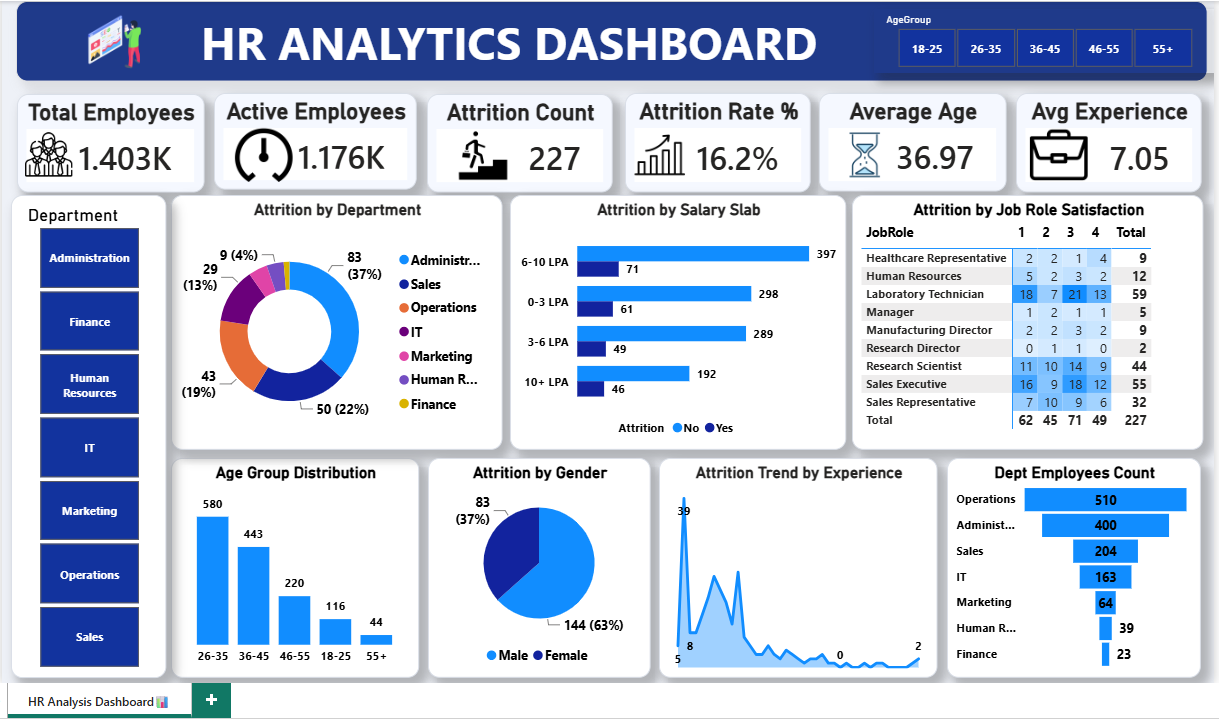

The dashboard page shown, as its layout file describes it:
{"tool":"powerbi","page":{"name":"HR Analysis Dashboard📊","canvas":[1280,720],"ordinal":0},"visuals":[{"type":"textbox","box":[14.3,0,1258.3,84.5],"z":0},{"type":"cardVisual","title":"Total Employees","fields":{"Data":["Count(HR_Analytics.EmpID)"]},"box":[15.5,98,197.6,103.6],"z":0,"group":"g1"},{"type":"donutChart","title":"Attrition by Department","fields":{"Category":["HR_Analytics.Department"],"Y":["Sum(HR_Analytics.Attrition Count)"]},"box":[178.6,204.6,350,269],"z":0,"group":"g2"},{"type":"group","id":"g1","title":"Group 1","box":[15.5,97,1251.2,105.2],"z":1000},{"type":"clusteredBarChart","title":"Attrition by Salary Slab","fields":{"Category":["HR_Analytics.SalarySlab"],"Y":["Sum(HR_Analytics.EmployeeCount)"],"Series":["HR_Analytics.Attrition"]},"box":[536.9,204.6,354.8,269],"z":1000,"group":"g2"},{"type":"cardVisual","title":"Active Employees","fields":{"Data":["CountNonNull(HR_Analytics.EmployeeCount)"]},"box":[223.8,97.3,214.3,102.4],"z":2000,"group":"g1"},{"type":"pivotTable","title":"Attrition by Job Role Satisfaction  ","fields":{"Rows":["HR_Analytics.JobRole"],"Values":["Sum(HR_Analytics.Attrition Count)"],"Columns":["HR_Analytics.JobSatisfaction"]},"box":[897.7,204.6,371.4,269],"z":2000,"group":"g2"},{"type":"columnChart","title":"Age Group Distribution","fields":{"Category":["HR_Analytics.AgeGroup"],"Y":["Sum(HR_Analytics.EmployeeCount)"]},"box":[178.6,482.1,261.9,232.1],"z":2000},{"type":"cardVisual","title":"Attrition Count","fields":{"Data":["Sum(HR_Analytics.Attrition Count)"]},"box":[448.8,98,196.4,103.6],"z":3000,"group":"g1"},{"type":"group","id":"g2","title":"Group 2","box":[178.6,204.6,1090.5,269],"z":3000},{"type":"cardVisual","title":"Attrition Rate %","fields":{"Data":["HR_Analytics.Attrition Rate"]},"box":[657.2,97.3,196.4,104.8],"z":4000,"group":"g1"},{"type":"pieChart","title":"Attrition by Gender","fields":{"Category":["HR_Analytics.Gender"],"Y":["Sum(HR_Analytics.Attrition Count)"]},"box":[450,482.1,234.5,232.1],"z":4000},{"type":"cardVisual","title":"Average Age","fields":{"Data":["Avg(HR_Analytics.Age)"]},"box":[861.9,97,197.6,103.6],"z":5000,"group":"g1"},{"type":"areaChart","title":"Attrition Trend by Experience","fields":{"Category":["HR_Analytics.TotalExperience(Years)"],"Y":["Sum(HR_Analytics.Attrition Count)"]},"box":[694.1,482.1,294,232.1],"z":5000},{"type":"cardVisual","title":"Avg Experience","fields":{"Data":["Avg(HR_Analytics.YearsatCompany)"]},"box":[1070.3,97.5,196.4,104.8],"z":6000,"group":"g1"},{"type":"funnel","title":"Dept Employees Count","fields":{"Category":["HR_Analytics.Department"],"Y":["Sum(HR_Analytics.EmployeeCount)"]},"box":[997.6,482.1,267.9,232.1],"z":6000},{"type":"slicer","fields":{"Values":["HR_Analytics.Department"]},"box":[9.5,204.8,164.3,509.5],"z":7000},{"type":"slicer","fields":{"Values":["HR_Analytics.AgeGroup"]},"box":[920.2,8.3,359.5,67.9],"z":8000},{"type":"image","box":[1083.3,132.1,65.5,60.7],"z":9000},{"type":"image","box":[23.8,132.1,50,60.7],"z":10000},{"type":"image","box":[479.8,132.1,57.1,60.7],"z":11000},{"type":"image","box":[878.6,132.1,65.5,60.7],"z":12000},{"type":"image","box":[661.9,132.1,65.5,60.7],"z":13000},{"type":"image","box":[244,132.1,65.5,60.7],"z":14000},{"type":"image","box":[64.3,13.1,109.5,60.7],"z":15000}]}

Visuals, with their boxes on the page's 1280x720 design canvas (x1, y1, x2, y2). These are canvas units, not pixel positions in the 1219x719 screenshot, which may show the page scaled, cropped or inside an application window:
textbox: [14,0,1273,84]
"Total Employees" cardVisual: [16,98,213,202]
"Attrition by Department" donutChart: [179,205,529,474]
"Group 1" group: [16,97,1267,202]
"Attrition by Salary Slab" clusteredBarChart: [537,205,892,474]
"Active Employees" cardVisual: [224,97,438,200]
"Attrition by Job Role Satisfaction  " pivotTable: [898,205,1269,474]
"Age Group Distribution" columnChart: [179,482,440,714]
"Attrition Count" cardVisual: [449,98,645,202]
"Group 2" group: [179,205,1269,474]
"Attrition Rate %" cardVisual: [657,97,854,202]
"Attrition by Gender" pieChart: [450,482,684,714]
"Average Age" cardVisual: [862,97,1060,201]
"Attrition Trend by Experience" areaChart: [694,482,988,714]
"Avg Experience" cardVisual: [1070,98,1267,202]
"Dept Employees Count" funnel: [998,482,1266,714]
slicer - HR_Analytics.Department: [10,205,174,714]
slicer - HR_Analytics.AgeGroup: [920,8,1280,76]
image: [1083,132,1149,193]
image: [24,132,74,193]
image: [480,132,537,193]
image: [879,132,944,193]
image: [662,132,727,193]
image: [244,132,310,193]
image: [64,13,174,74]
